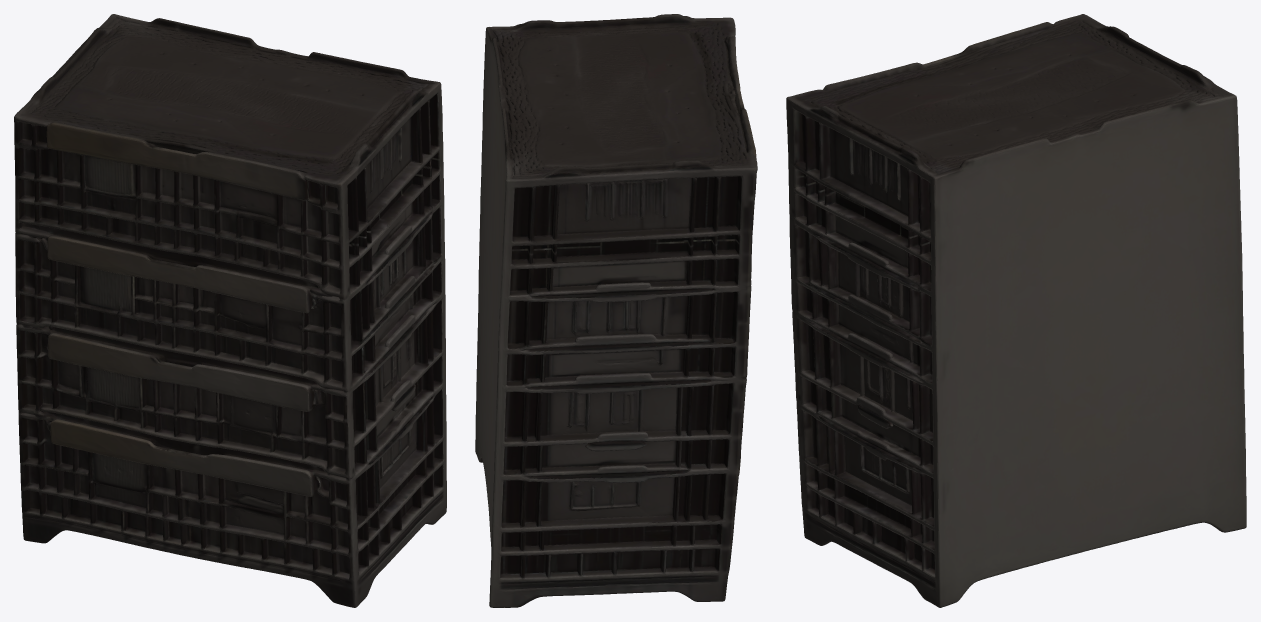
Rendered from Plasticbox.glb.
3 views of the same model, side by side, from view 1: azimuth 30°, elevation 25°; view 2: azimuth 150°, elevation 25°; view 3: azimuth 270°, elevation 25° (orthographic).
Size of the model in its own units: 1.67 by 2 by 1.89.
Materials: 1 (1 with a texture image).
